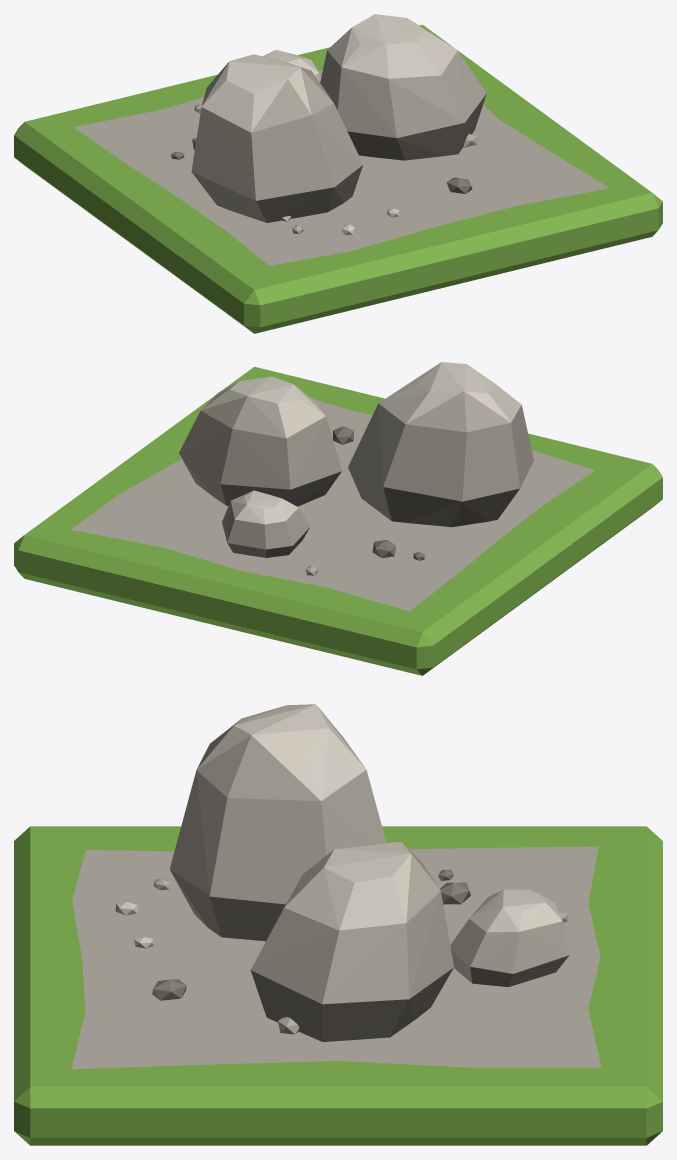
The model's file is tile_rock.fbx.
The picture shows the model from 3 angles, top to bottom: view 1: azimuth 30°, elevation 25°; view 2: azimuth 150°, elevation 25°; view 3: azimuth 270°, elevation 25°; orthographic projection. The views are drawn at different scales.
Visible parts, largest first — view 1: tile_rock; view 2: tile_rock; view 3: tile_rock.
Boxes of the visible parts, x1,y1,x2,y2 form: tile_rock: (14,14,662,333); tile_rock: (14,362,662,675); tile_rock: (14,704,662,1145).
Bounding box in the file's own units: 1 × 0.3984 × 1.
